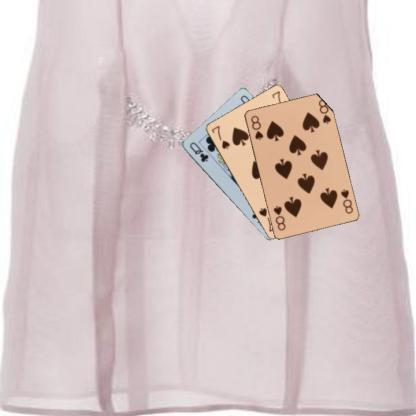7s: (209, 123, 231, 150)
8s: (248, 113, 264, 141), (338, 187, 354, 215)
Qc: (186, 139, 209, 164)
